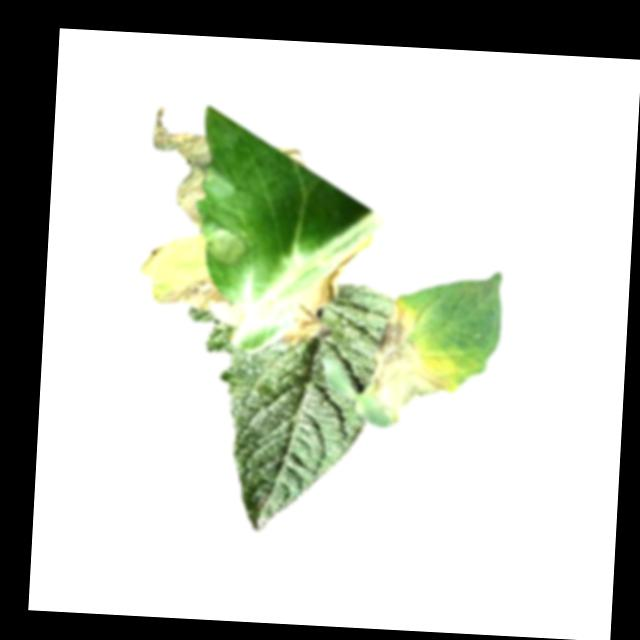Late_blight: (366, 296, 459, 430), (144, 105, 240, 232), (279, 230, 375, 350), (135, 229, 251, 324), (201, 225, 247, 268), (276, 144, 306, 167)
healthy: (175, 276, 395, 539)
